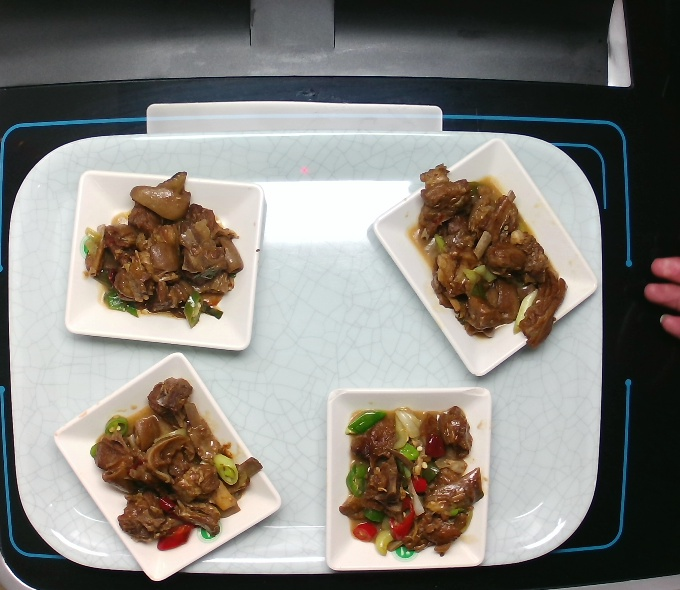wcq-YangRou: (401, 160, 567, 348), (89, 380, 261, 553), (78, 163, 250, 336), (331, 393, 486, 561)
